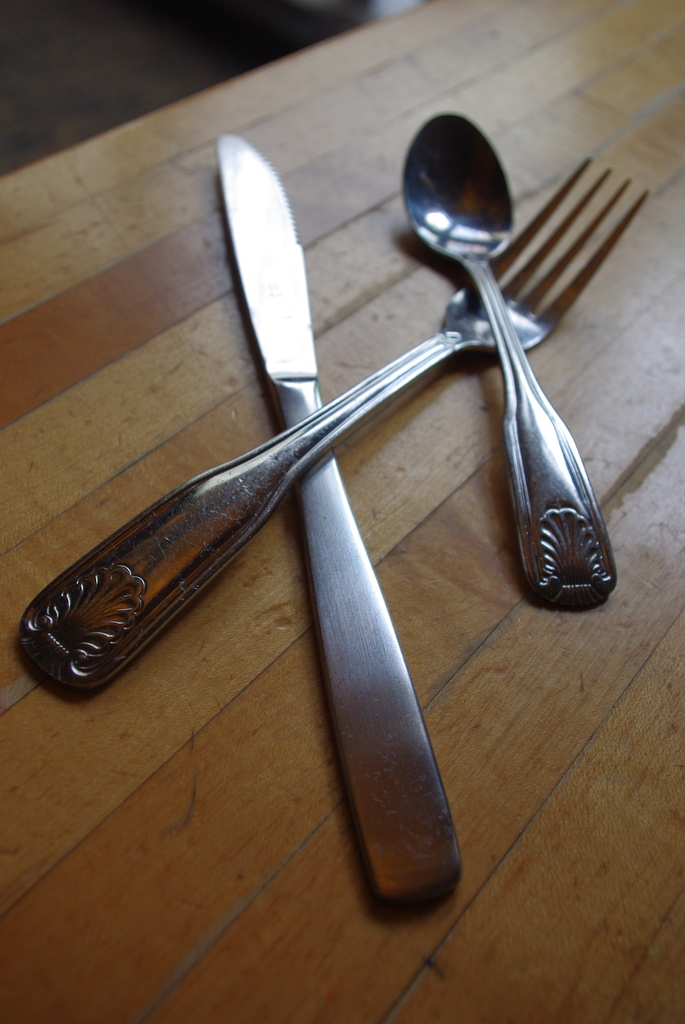knife: (215, 133, 462, 899)
